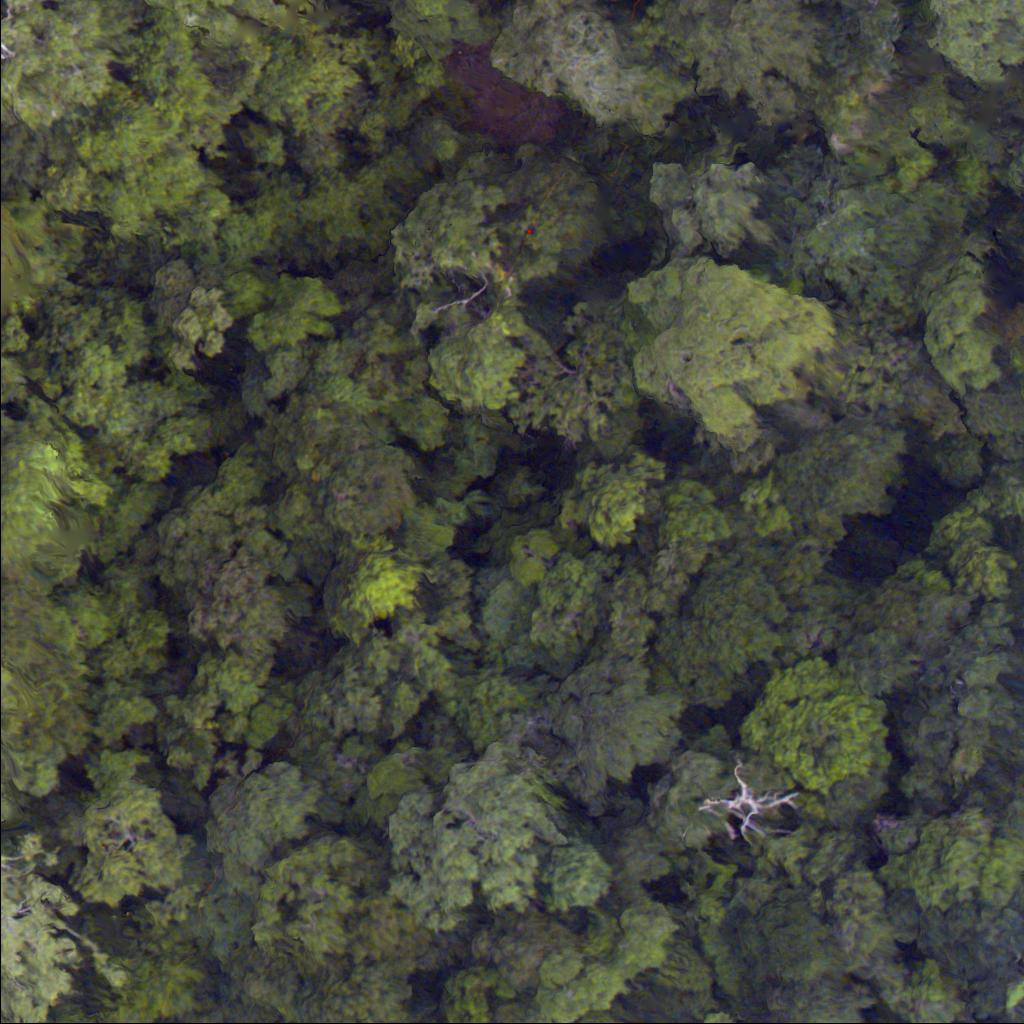crown: (56, 32, 235, 236), (387, 745, 569, 929), (492, 0, 680, 134), (0, 824, 123, 1023), (736, 658, 890, 794), (542, 650, 684, 792), (0, 0, 144, 140), (666, 0, 822, 110), (917, 0, 1023, 86), (0, 188, 44, 348), (408, 0, 452, 16)
